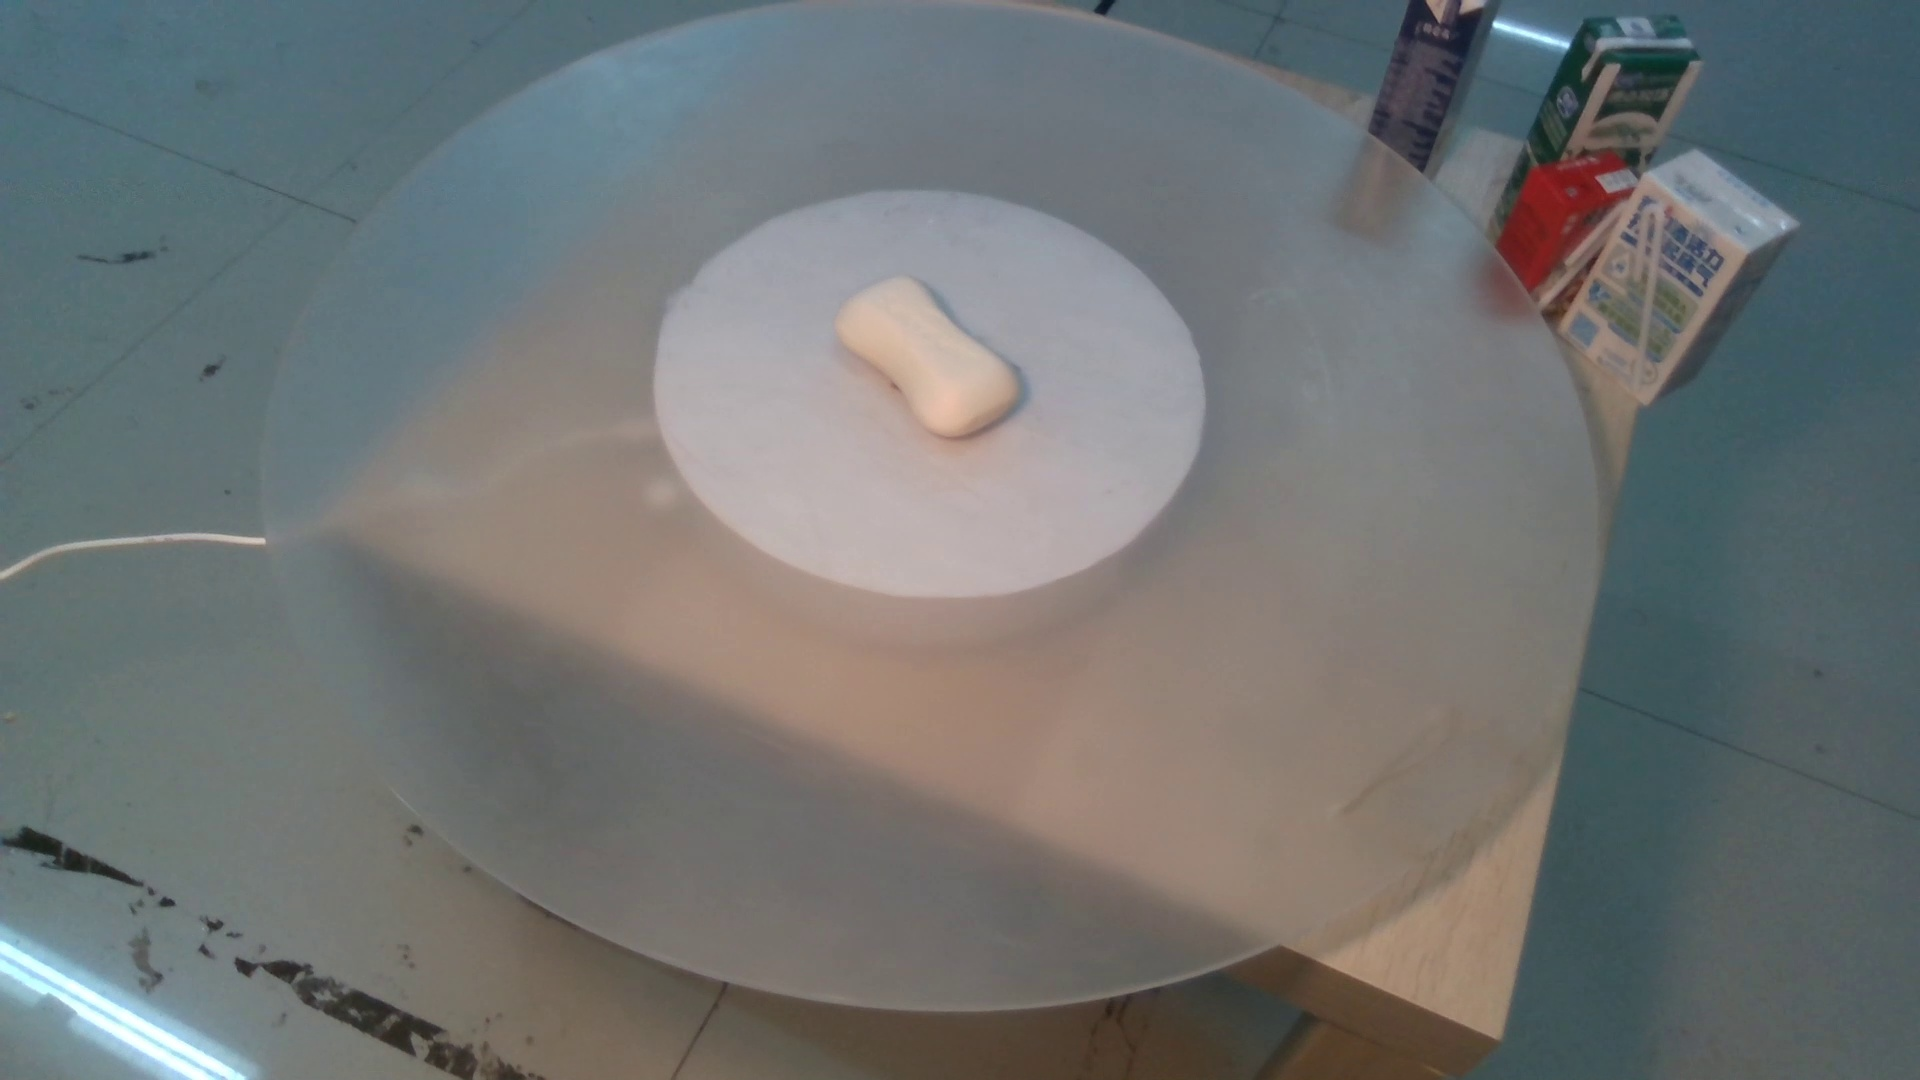CA003_1: (828, 268, 1027, 443)
